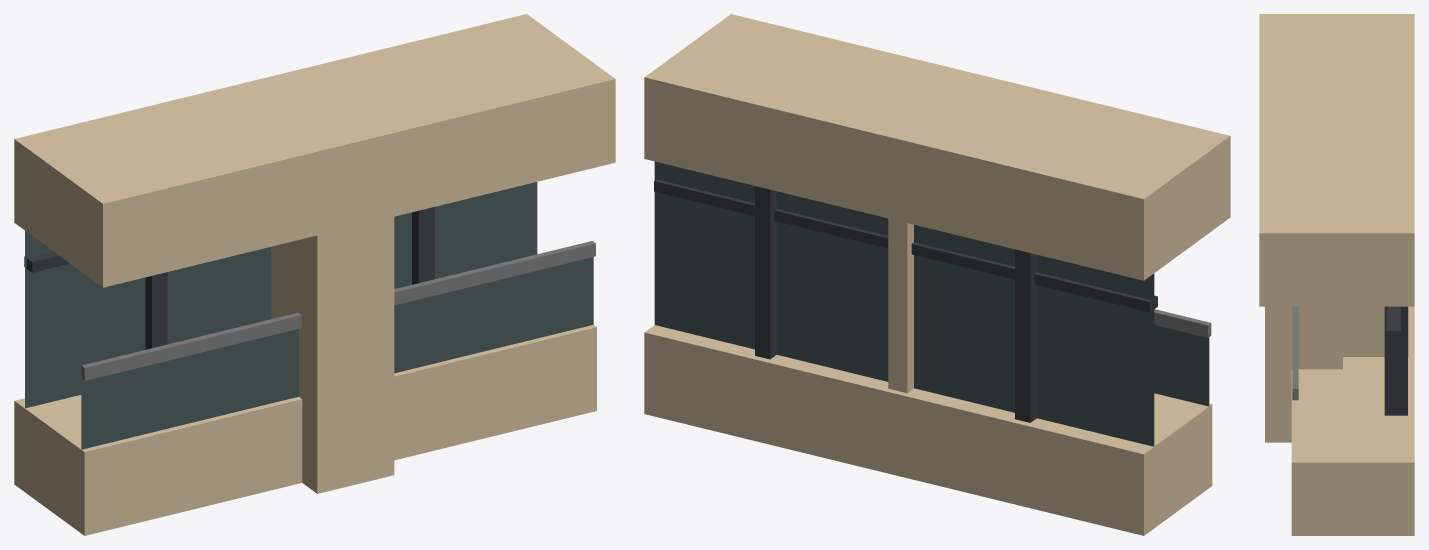
The model's file is top-w1.fbx.
3 renders of one model, left to right at view 1: azimuth 30°, elevation 25°; view 2: azimuth 150°, elevation 25°; view 3: azimuth 270°, elevation 25°, orthographic. The views are drawn at different scales.
Visible parts, largest first — view 1: a2007.wall.001; view 2: a2007.wall.001; view 3: a2007.wall.001.
Boxes of the visible parts, x1,y1,x2,y2 form: a2007.wall.001: (14, 14, 615, 535); a2007.wall.001: (644, 14, 1230, 535); a2007.wall.001: (1259, 14, 1414, 535).
Bounding box in the file's own units: 8 × 5.15 × 2.4.
